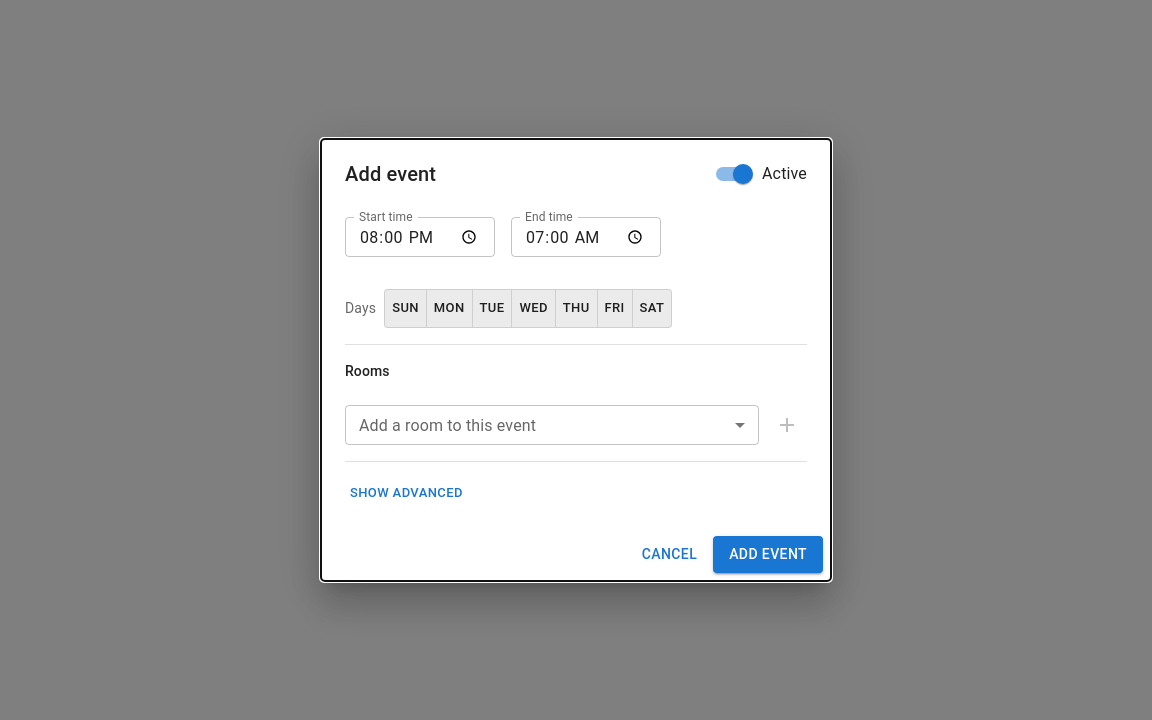
Scenario: EventEditorDialog › excludes an observation-only zone from the 'add a room' picker
The width and height of the screenshot is (1152, 720).
Press the mouse on the dropdown named "Add a room to this event" at {"x": 552, "y": 425}, box [345,405,759,445]
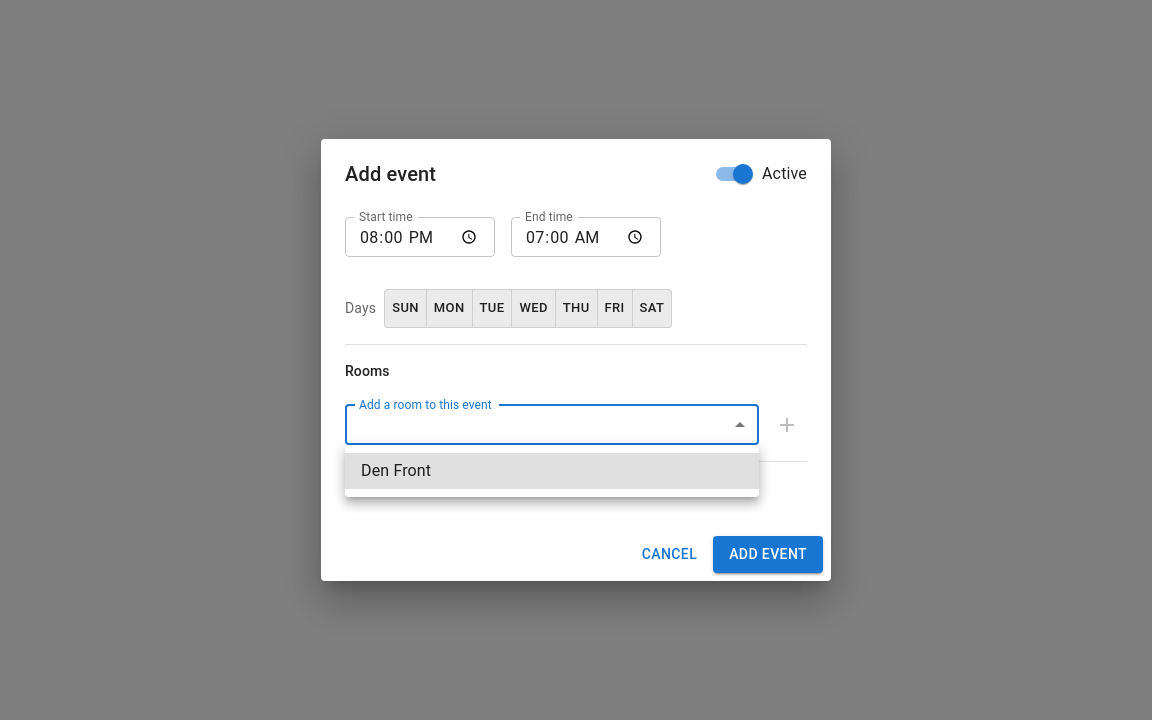
Now the option "Den Front" is shown, box [345,453,759,489]
